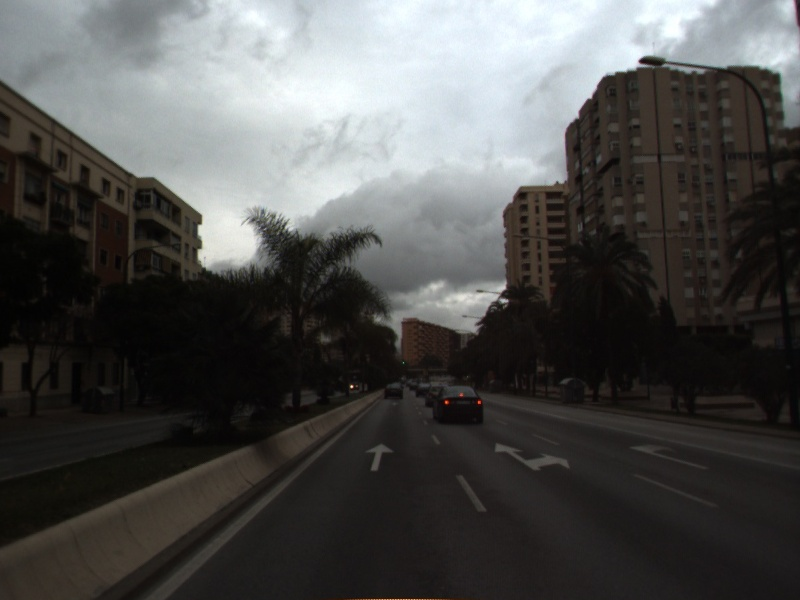RIGHT: (627, 442, 710, 472)
STRAIGHT: (363, 441, 396, 473)
STRAIGHT_RIGHT: (492, 440, 572, 473)
